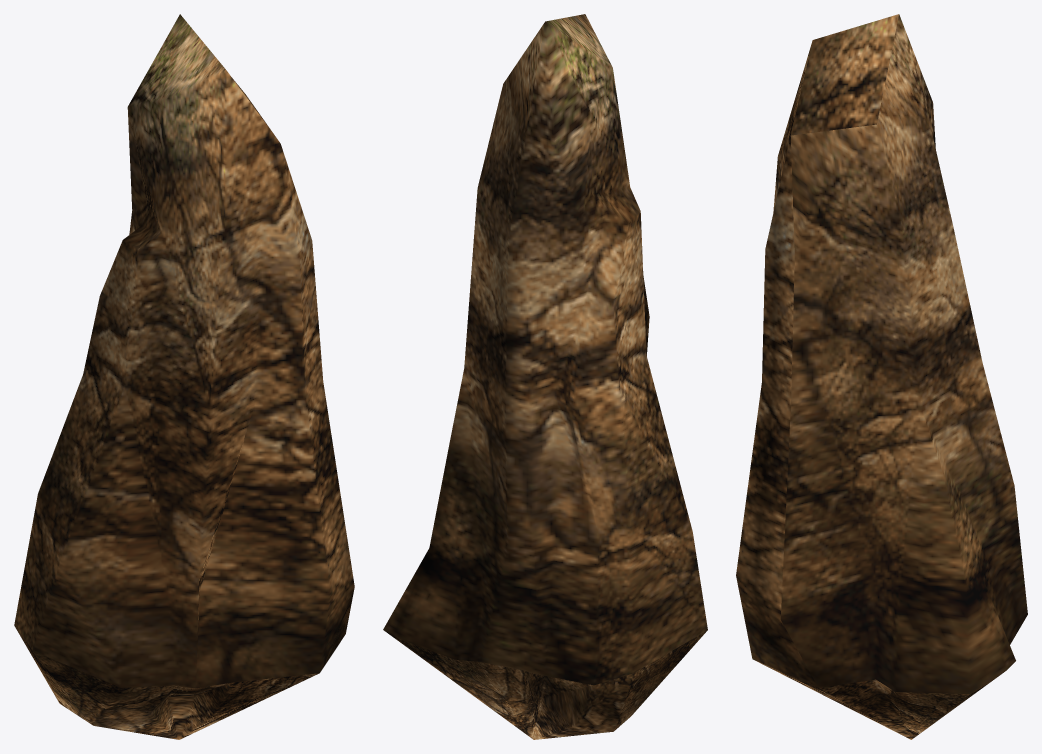
The picture shows the model from 3 angles, left to right: view 1: azimuth 30°, elevation 25°; view 2: azimuth 150°, elevation 25°; view 3: azimuth 270°, elevation 25°; orthographic projection. The views are drawn at different scales.
Visible parts, largest first — view 1: wj053; view 2: wj053; view 3: wj053.
Part boxes in pixels (x1,y1,x2,y2): wj053: (14, 14, 354, 739); wj053: (383, 14, 707, 739); wj053: (736, 14, 1027, 739).
Bounding box in the file's own units: 495 × 1231 × 450.
